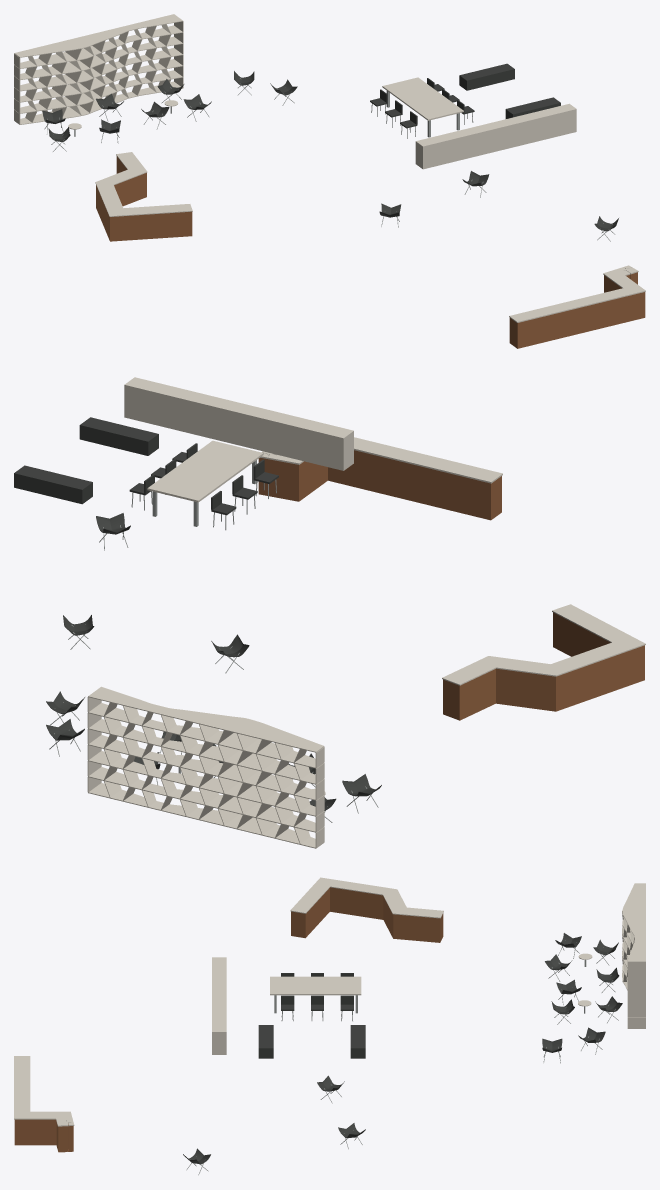
File: furniture.glb
3 renders of one model, top to bottom at view 1: azimuth 30°, elevation 25°; view 2: azimuth 150°, elevation 25°; view 3: azimuth 270°, elevation 25°, orthographic. The views are drawn at different scales.
Parts seen in each view (by area): view 1: furniture-30-0, furniture-33-7, furniture-32-5, furniture-33-8, furniture-31-3, furniture-32-6, furniture-31-1; view 2: furniture-30-0, furniture-33-7, furniture-32-5, furniture-33-8, furniture-31-3, furniture-32-6, furniture-31-1; view 3: furniture-33-7, furniture-33-8, furniture-31-3, furniture-32-5, furniture-30-0, furniture-32-6, furniture-31-1.
Part boxes in pixels (left/top/right/bottom): furniture-30-0: left=14, top=14, right=183, bottom=124; furniture-33-7: left=96, top=156, right=645, bottom=348; furniture-32-5: left=382, top=77, right=576, bottom=169; furniture-33-8: left=95, top=152, right=645, bottom=322; furniture-31-3: left=42, top=71, right=618, bottom=231; furniture-32-6: left=459, top=63, right=560, bottom=118; furniture-31-1: left=44, top=78, right=615, bottom=241; furniture-30-0: left=87, top=686, right=324, bottom=848; furniture-33-7: left=258, top=450, right=644, bottom=720; furniture-32-5: left=124, top=377, right=353, bottom=502; furniture-33-8: left=260, top=437, right=645, bottom=685; furniture-31-3: left=46, top=443, right=381, bottom=810; furniture-32-6: left=14, top=417, right=158, bottom=504; furniture-31-1: left=49, top=479, right=378, bottom=822; furniture-33-7: left=14, top=887, right=443, bottom=1152; furniture-33-8: left=14, top=877, right=443, bottom=1126; furniture-31-3: left=183, top=933, right=622, bottom=1164; furniture-32-5: left=212, top=957, right=361, bottom=1054; furniture-30-0: left=622, top=883, right=645, bottom=1028; furniture-32-6: left=258, top=1025, right=365, bottom=1058; furniture-31-1: left=186, top=940, right=618, bottom=1175.
Size of the model in its own units: 17.58 by 4.83 by 21.57.
